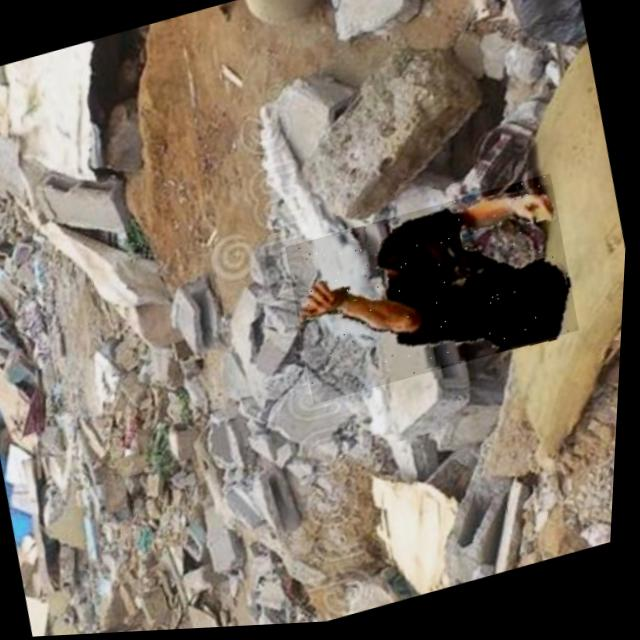Person in Rubble: (281, 177, 589, 408)
